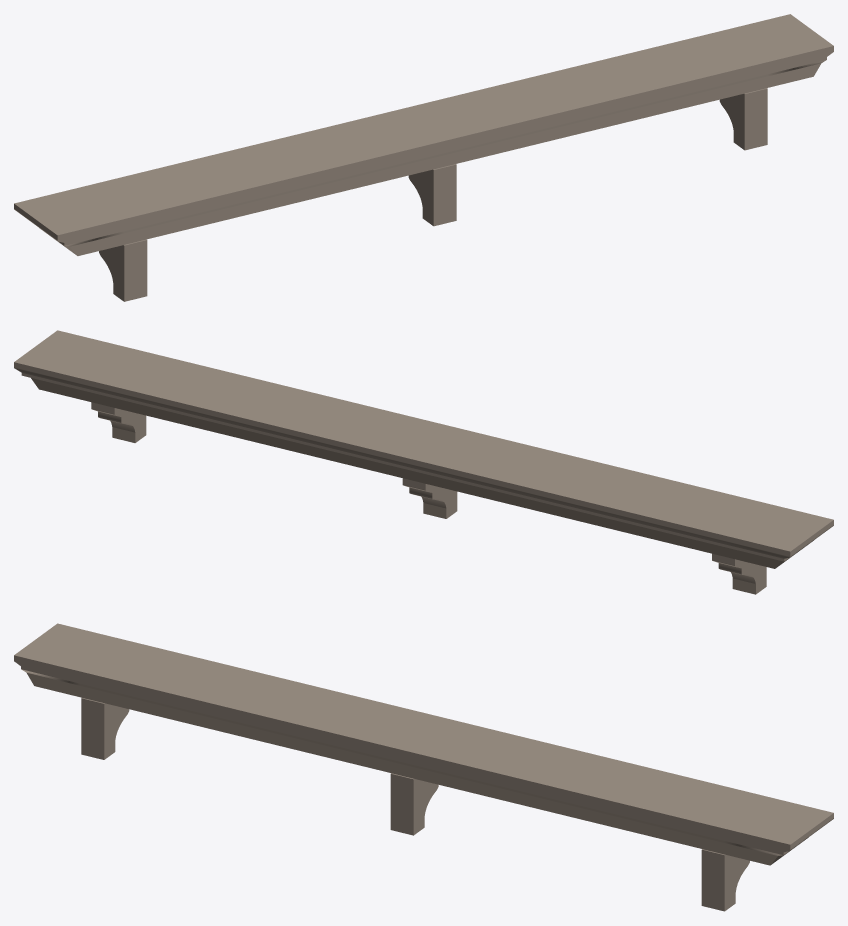
Rendered from ledge.fbx.
The picture shows the model from 3 angles, top to bottom: view 1: azimuth 30°, elevation 25°; view 2: azimuth 150°, elevation 25°; view 3: azimuth 330°, elevation 25°; orthographic projection.
Visible parts, largest first — view 1: polySurface584; view 2: polySurface584; view 3: polySurface584.
Part boxes in pixels (x1,y1,x2,y2): polySurface584: (14,14,833,301); polySurface584: (14,330,833,594); polySurface584: (14,623,833,911).
Size of the model in its own units: 16.2 by 1.66 by 1.57.
